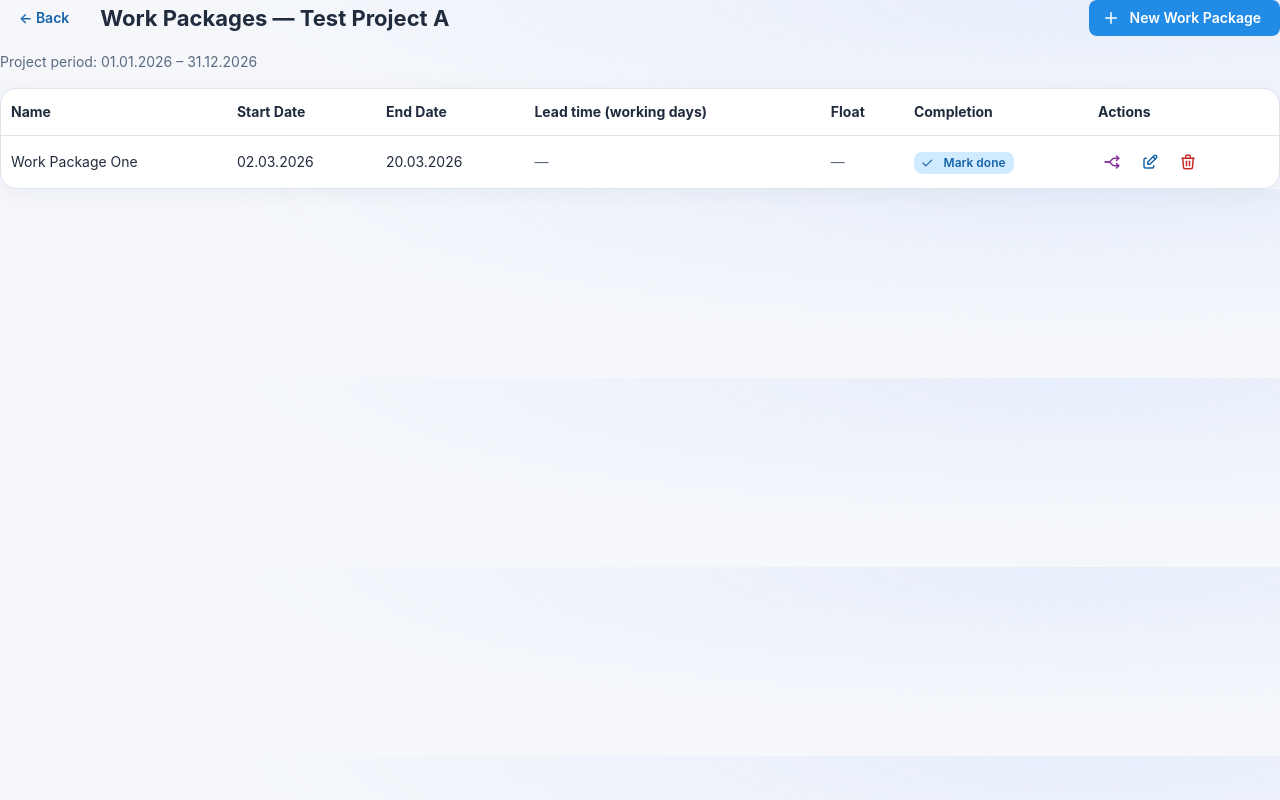
Test: WorkPackagesSection — editing the time range › renders backend warnings in the modal and keeps it open
Expected: the table is shown, [1, 89, 1279, 188]
Click the button named "Edit work package": click(1150, 162) [1136, 148, 1164, 176]
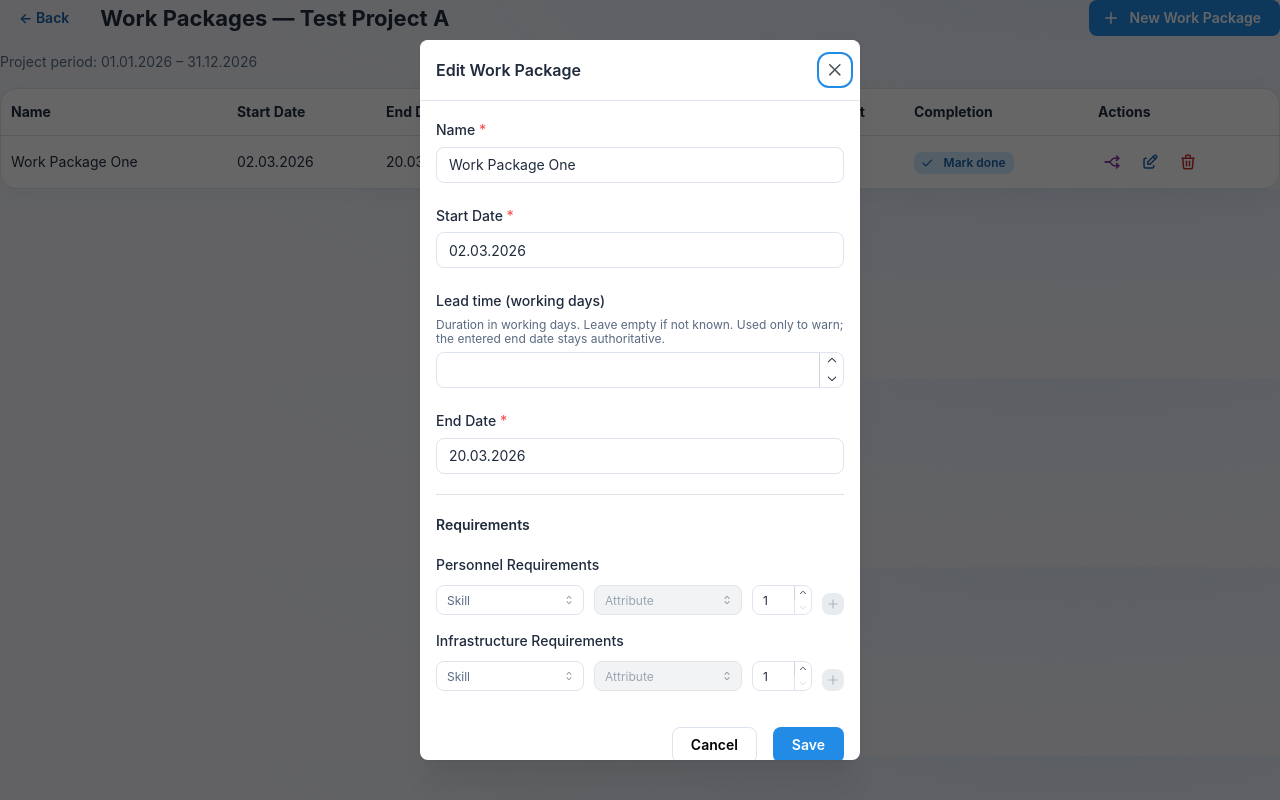
Result: the field labelled "Start Date *" is shown at [436, 232, 844, 268]
Replace the text in the field labelled "End Date *" with "15.01.2027": (640, 456) [436, 438, 844, 474]
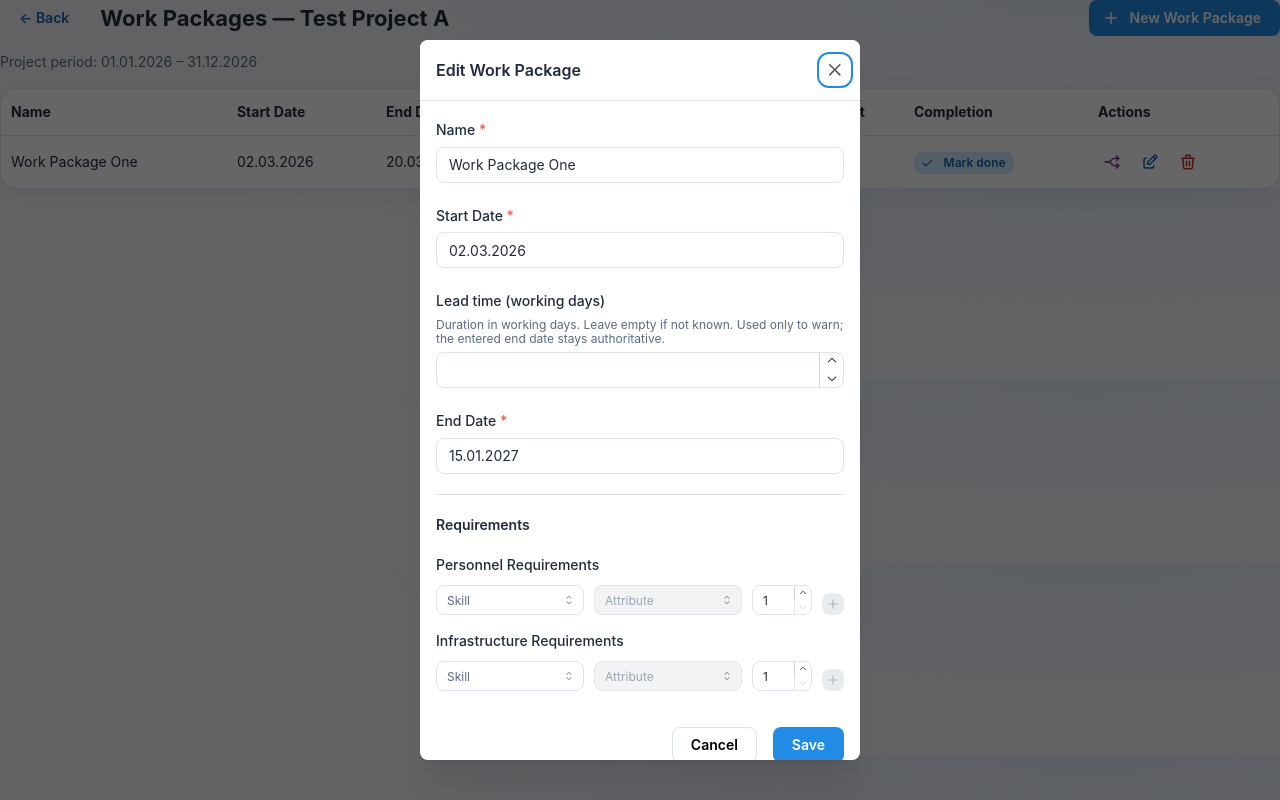
Click the button "Save": click(808, 745) [773, 727, 844, 763]
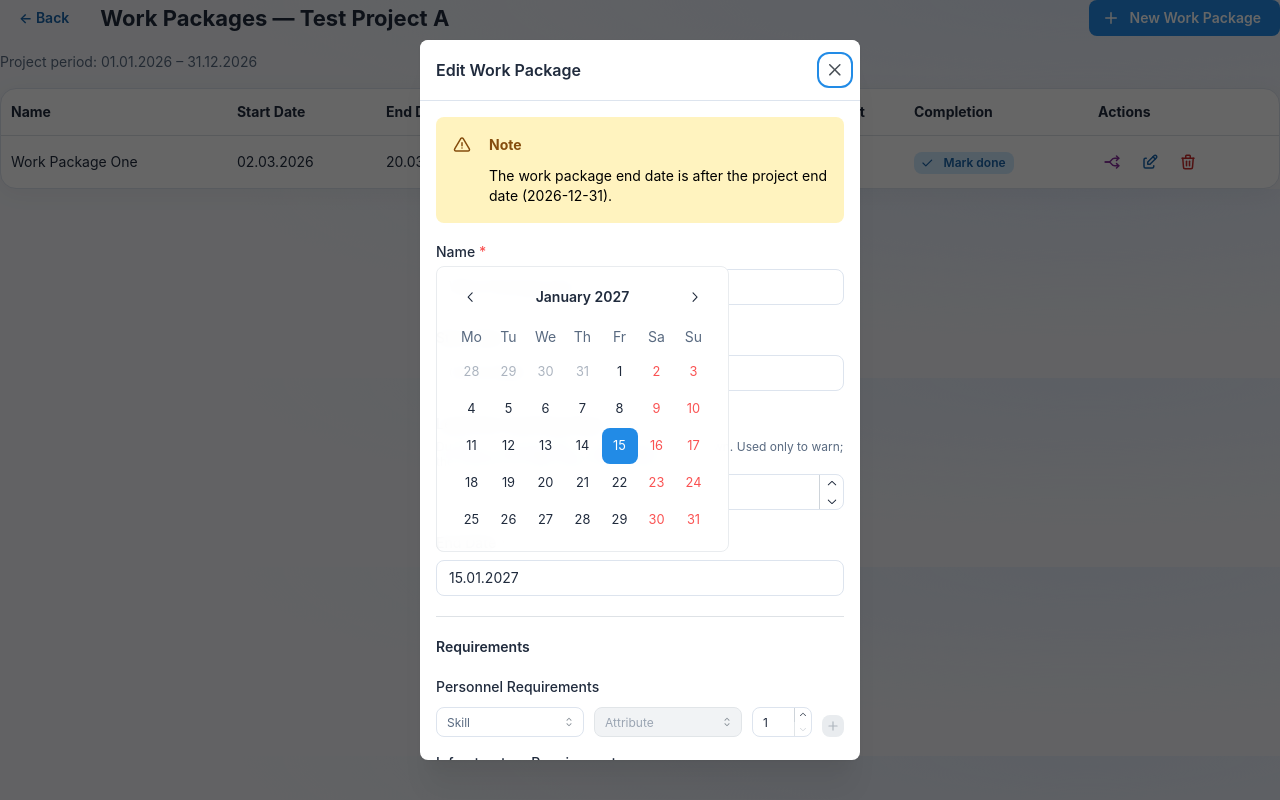
Result: the text "The work package end date is after the project end date (2026-12-31)." is shown at [489, 166, 827, 206]
